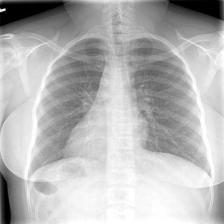normal: (27, 28, 214, 190)
